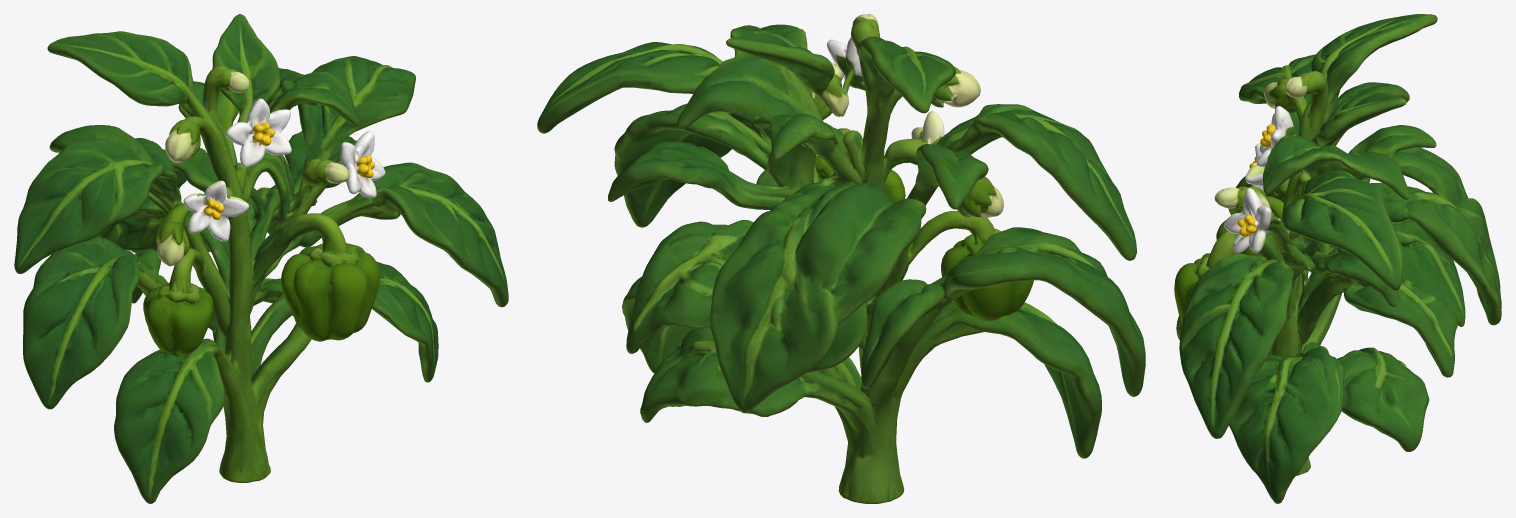
File: pepper-growing.glb
The picture shows the model from 3 angles, left to right: view 1: azimuth 30°, elevation 25°; view 2: azimuth 150°, elevation 25°; view 3: azimuth 270°, elevation 25°; orthographic projection. The views are drawn at different scales.
Size of the model in its own units: 1.9 by 1.66 by 1.21.
1 material, 1 textured.
